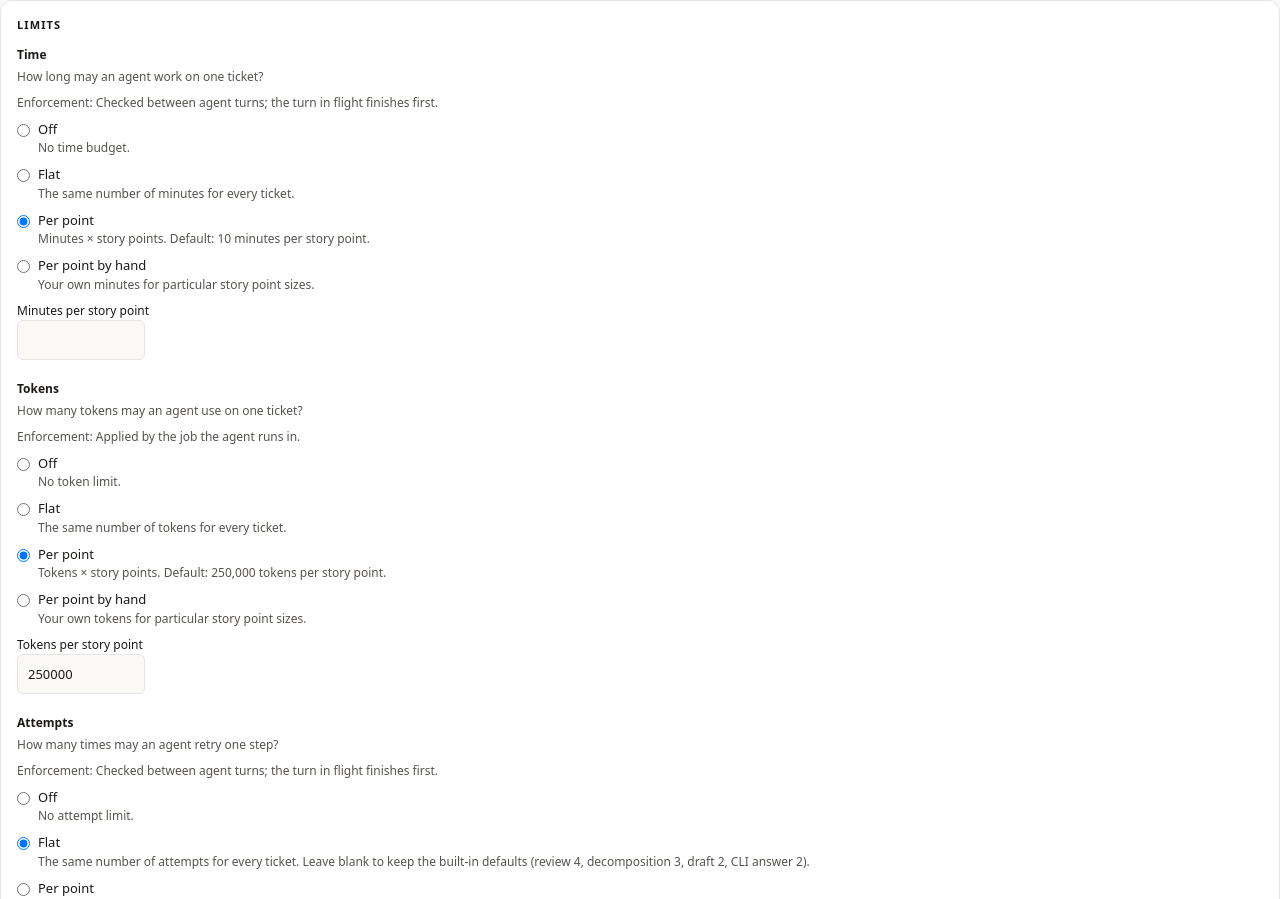
Test: RunTimeBudgetSection › sends every axis and confirms the save
This screenshot has width=1280, height=899.
Click the radio button labelled "Flat".
click(24, 176)  # box left=17, top=169, right=30, bottom=182
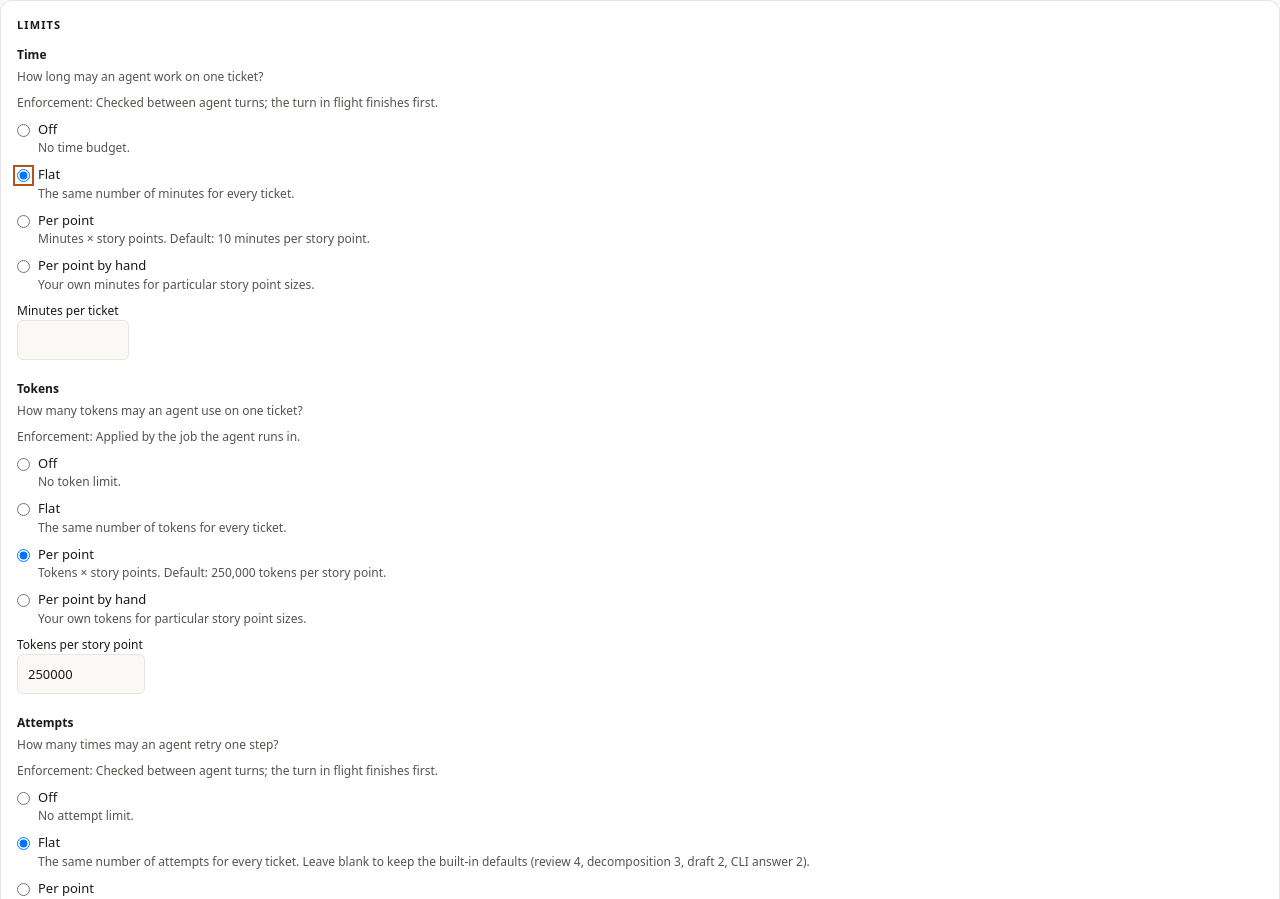
Type "30" into the field labelled "Minutes per ticket".
click(73, 340); type("30")  # box left=17, top=320, right=129, bottom=360
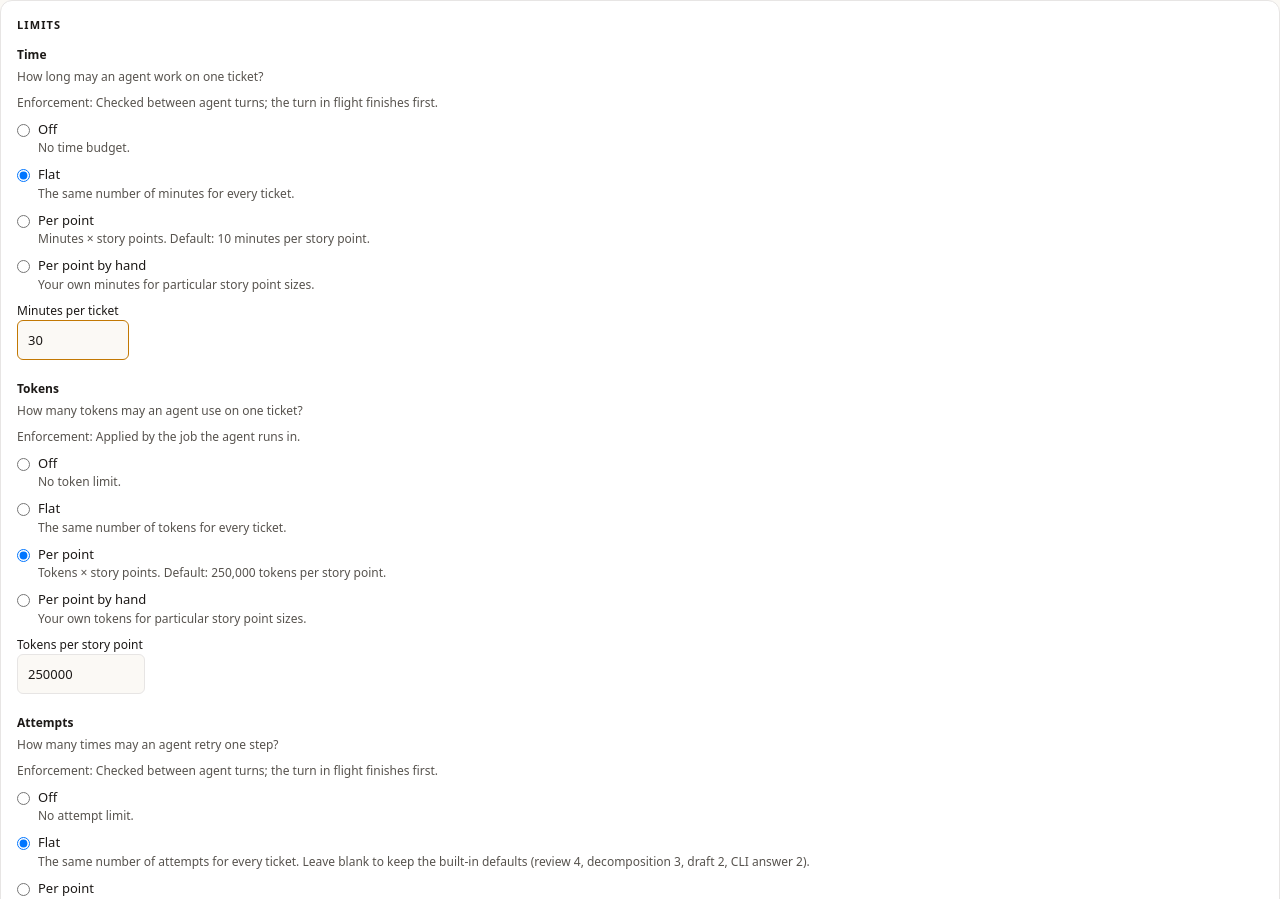
Click the radio button labelled "Flat".
click(24, 510)  # box left=17, top=503, right=30, bottom=516
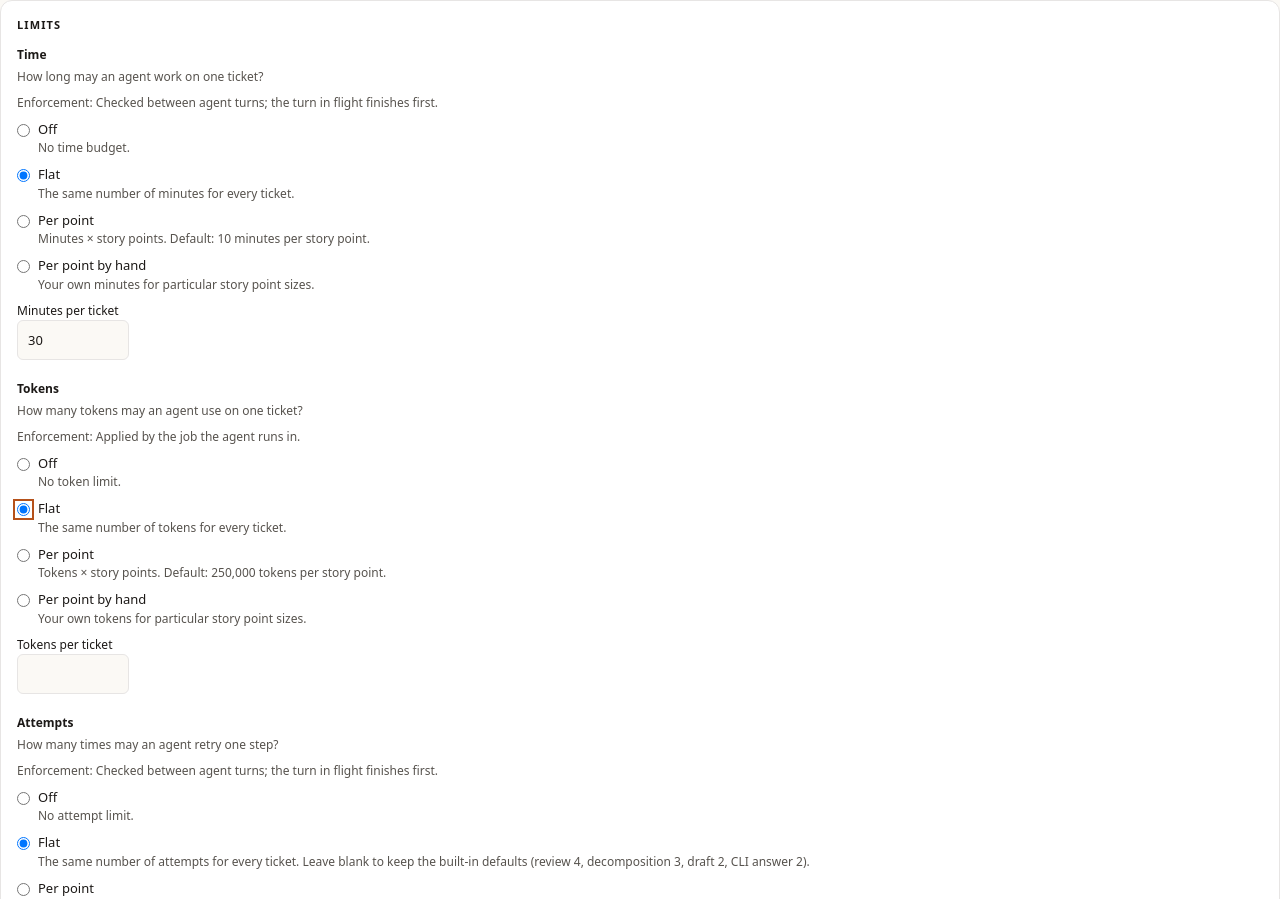
Type "100000" into the field labelled "Tokens per ticket".
click(73, 674); type("100000")  # box left=17, top=654, right=129, bottom=694
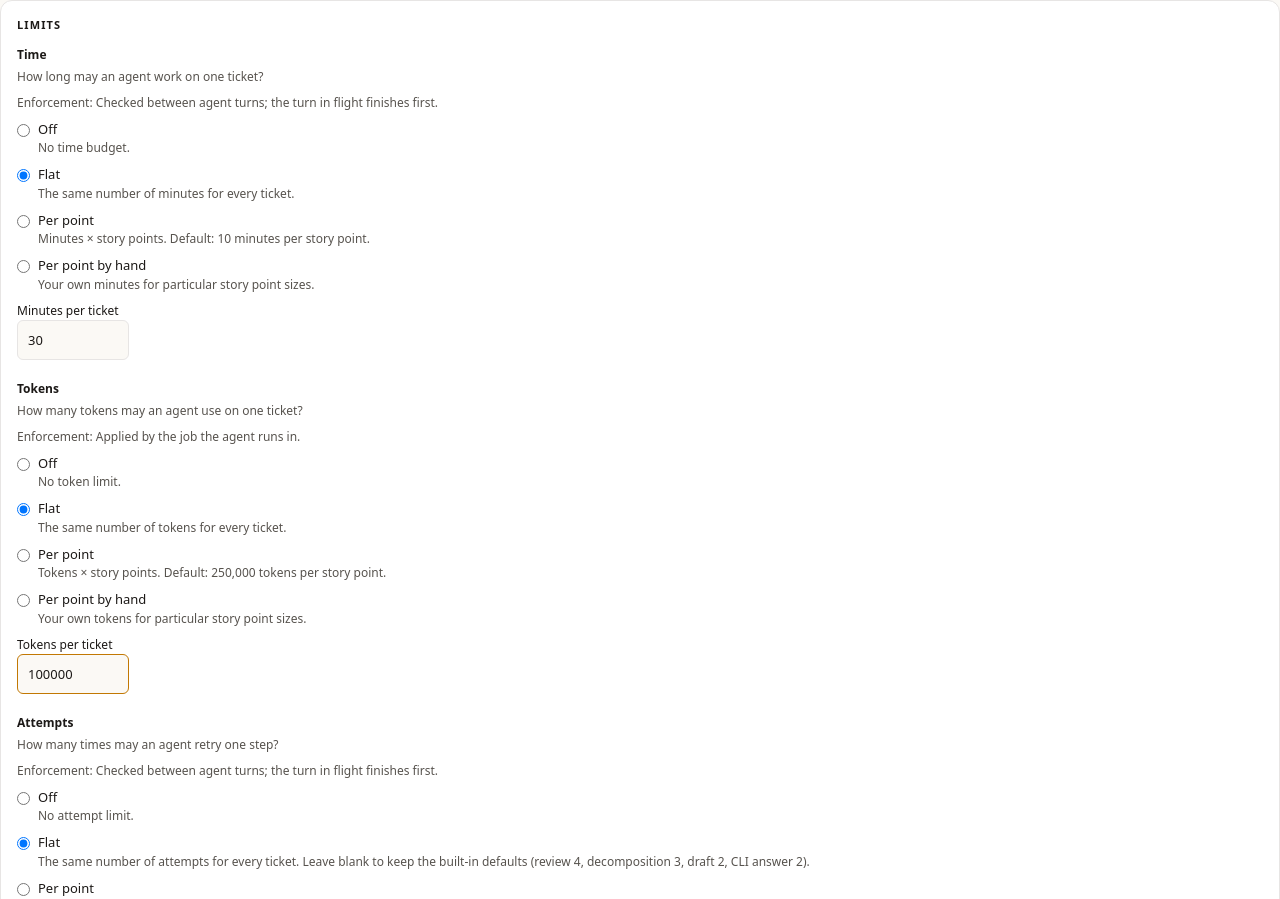
Click the radio button labelled "Off".
click(24, 798)  # box left=17, top=792, right=30, bottom=804
(page scrolled)
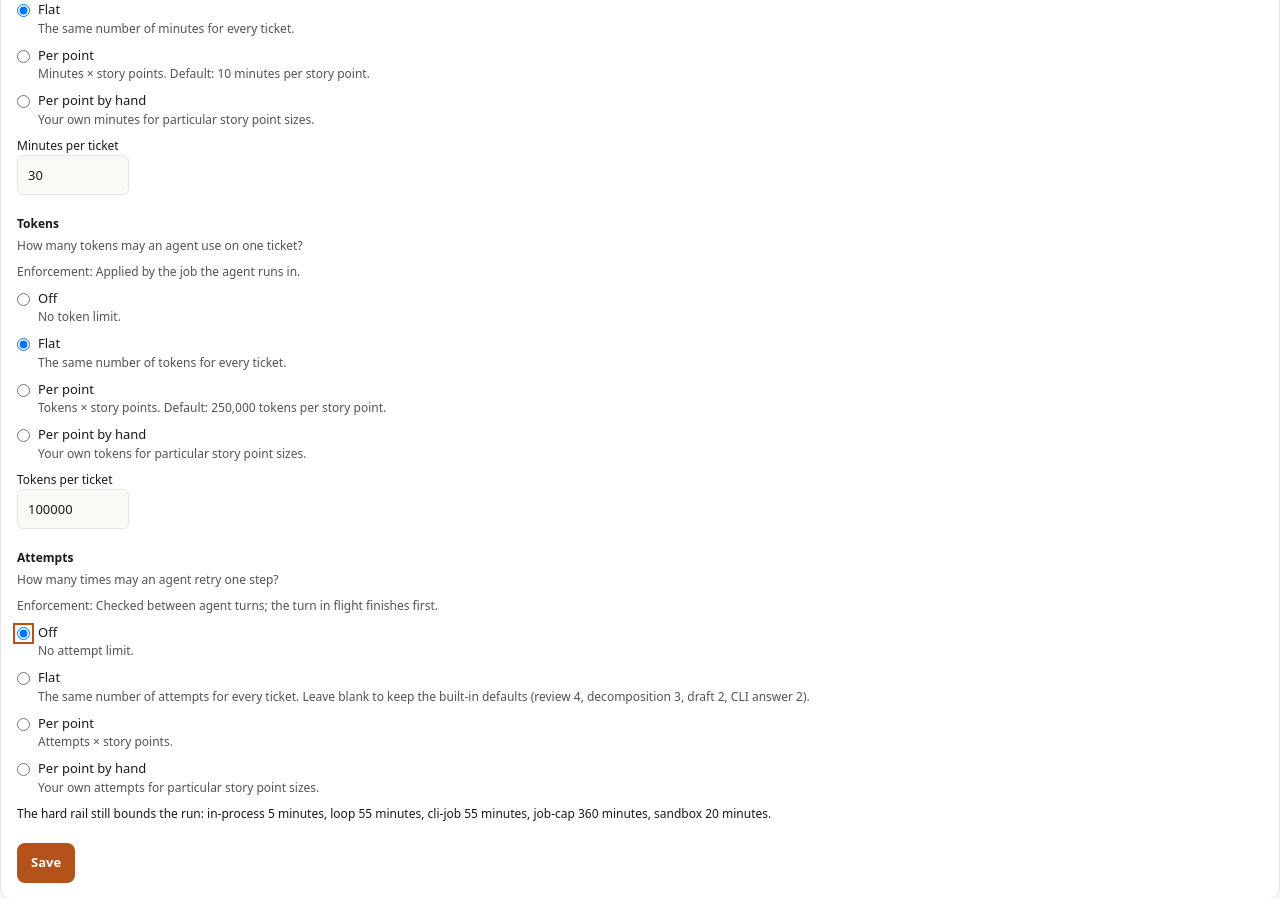
Click the button "Save".
click(46, 862)  # box left=17, top=842, right=75, bottom=882
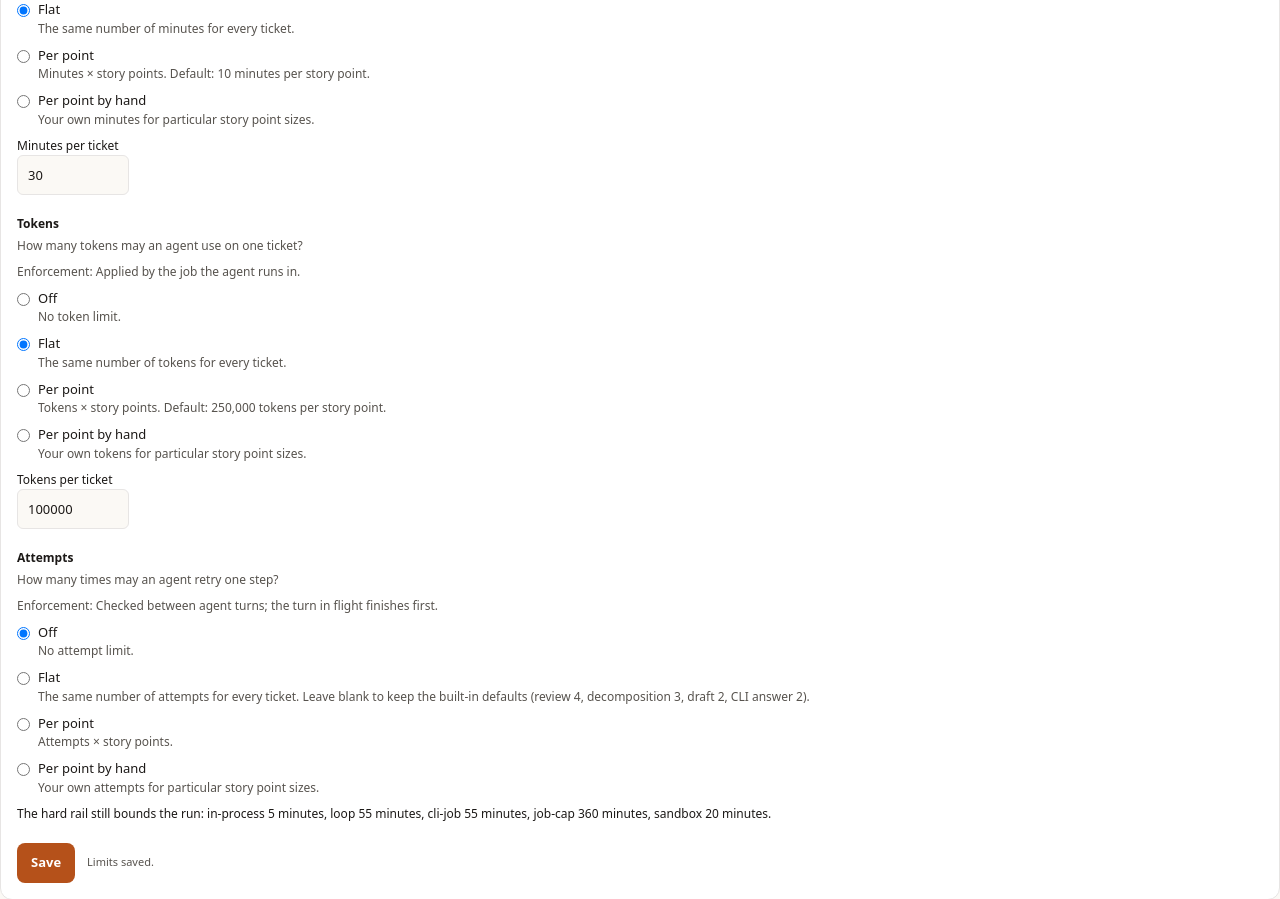
Expected: the text "Limits saved." is shown, left=87, top=854, right=154, bottom=871
